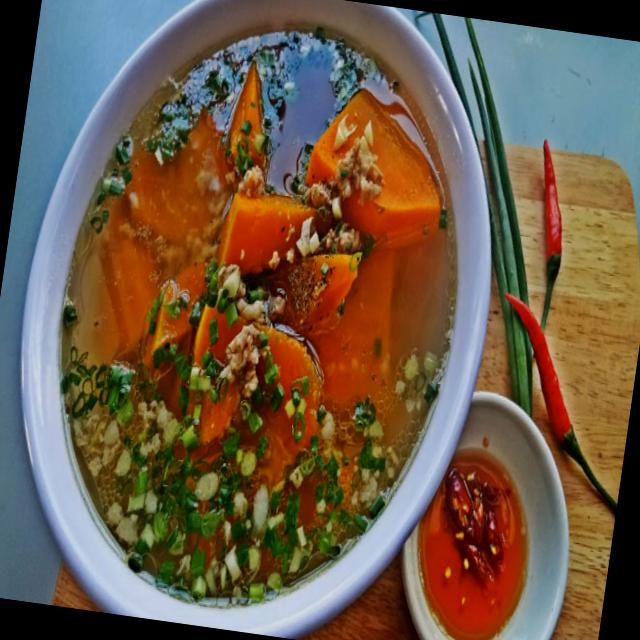canh bi do: (61, 30, 454, 601)
nuoc mam: (419, 452, 526, 640)
